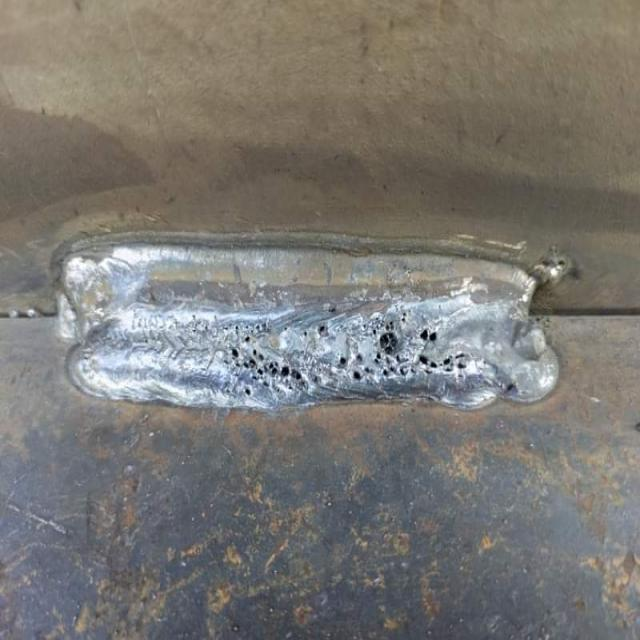Porosity: (335, 310, 475, 386), (223, 328, 312, 399), (312, 319, 331, 343)
